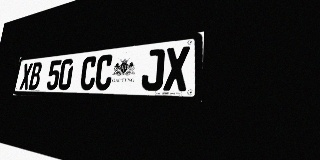0: (57, 58, 74, 90)
5: (46, 60, 62, 90)
B: (28, 62, 43, 90)
C: (94, 54, 114, 90), (79, 56, 98, 90)
J: (141, 48, 165, 91)
X: (163, 46, 190, 91), (19, 63, 33, 90)
